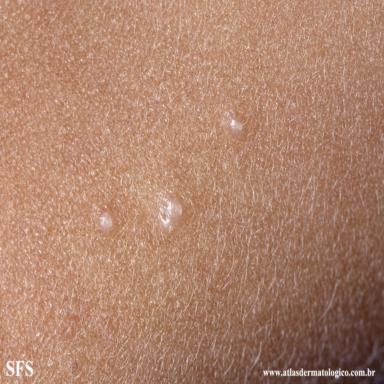Molluscum-Contagiosum: (161, 195, 186, 233), (99, 211, 114, 233), (228, 118, 243, 134)
